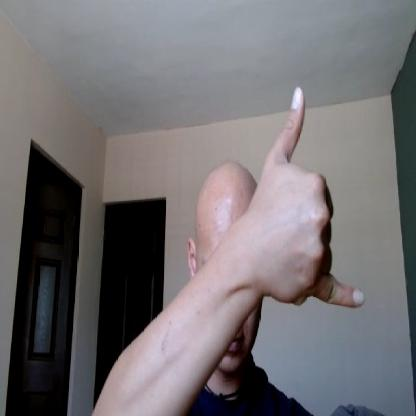Y: (249, 82, 368, 310)
